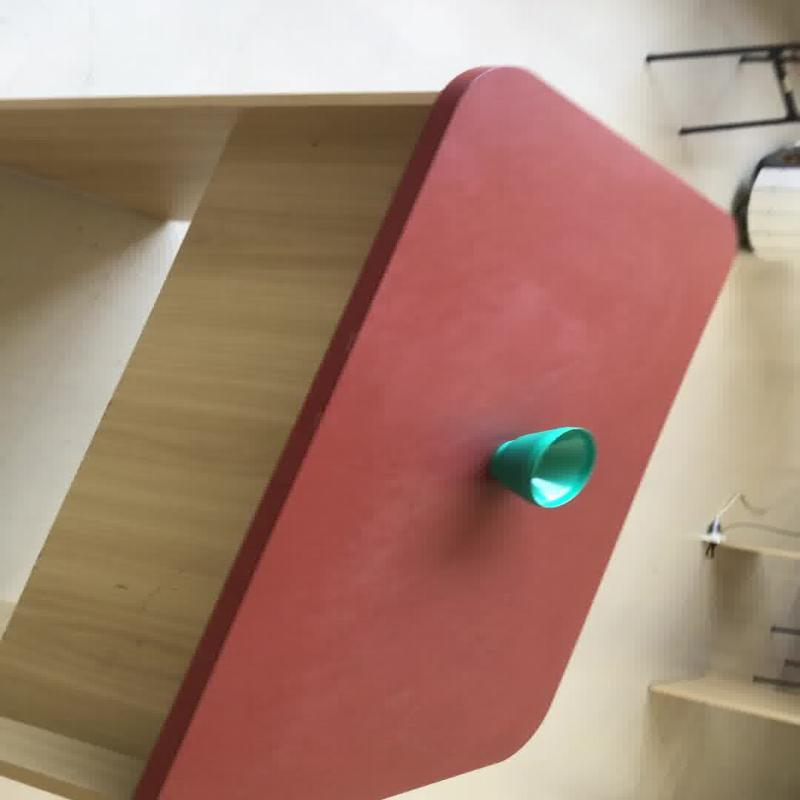bowl: (487, 425, 596, 508)
